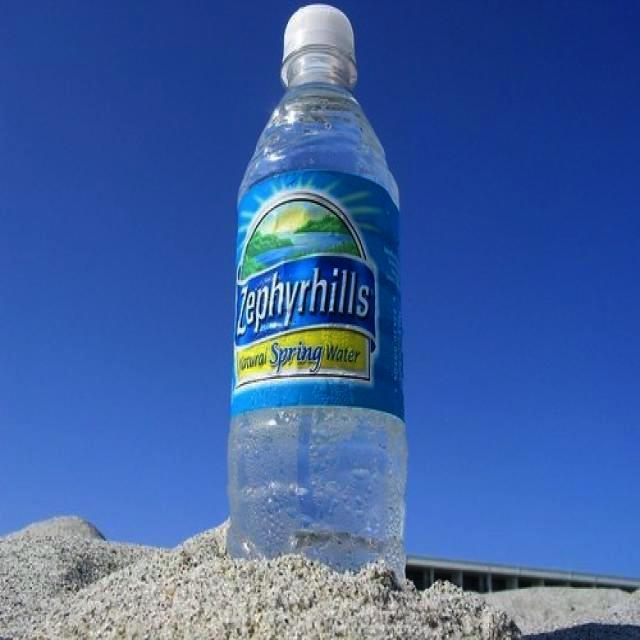bottle: (224, 4, 407, 584)
